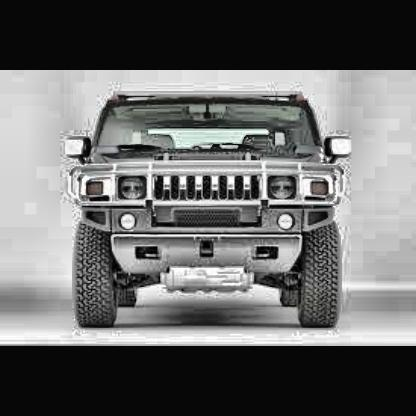HUMMER H2 SUT Crew Cab 2009: (68, 92, 355, 334)
